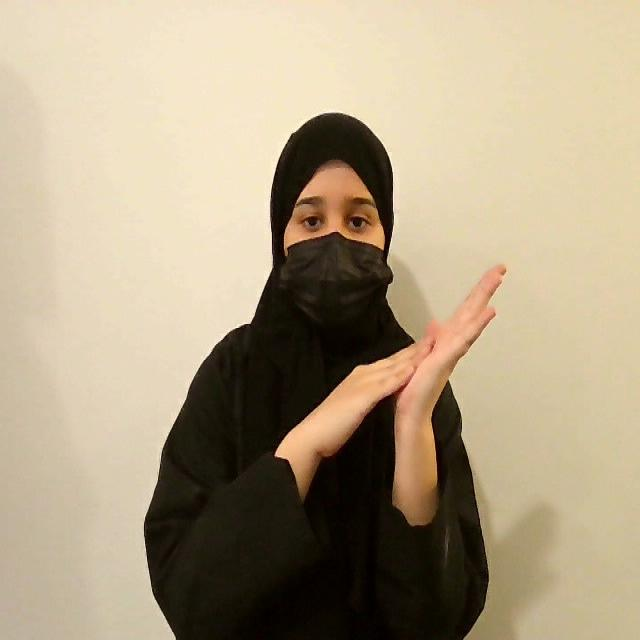complaint: (308, 258, 510, 467)
